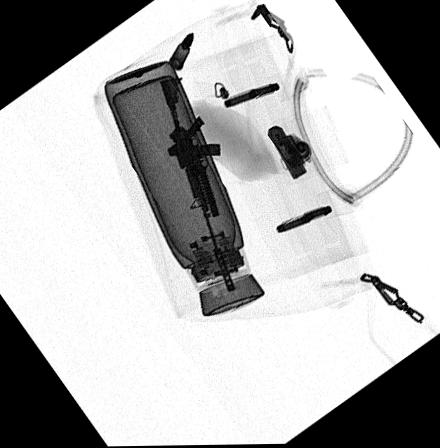Bullet: (167, 32, 193, 71)
Gun: (157, 80, 236, 293)
